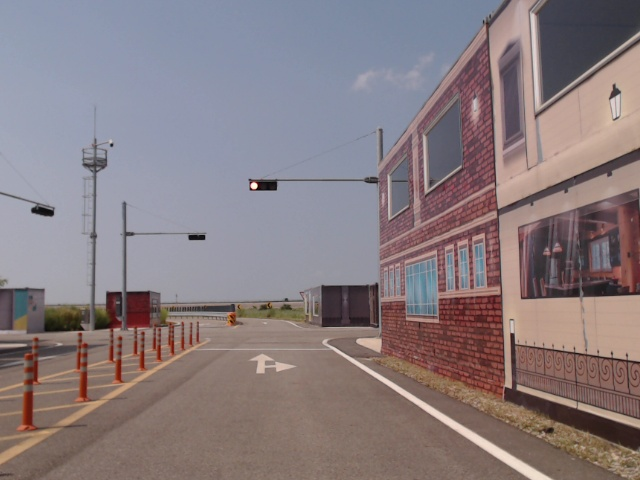red_3: (250, 180, 278, 191)
